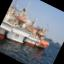fishing boat: (3, 0, 44, 49), (0, 0, 28, 45), (18, 16, 46, 51)
